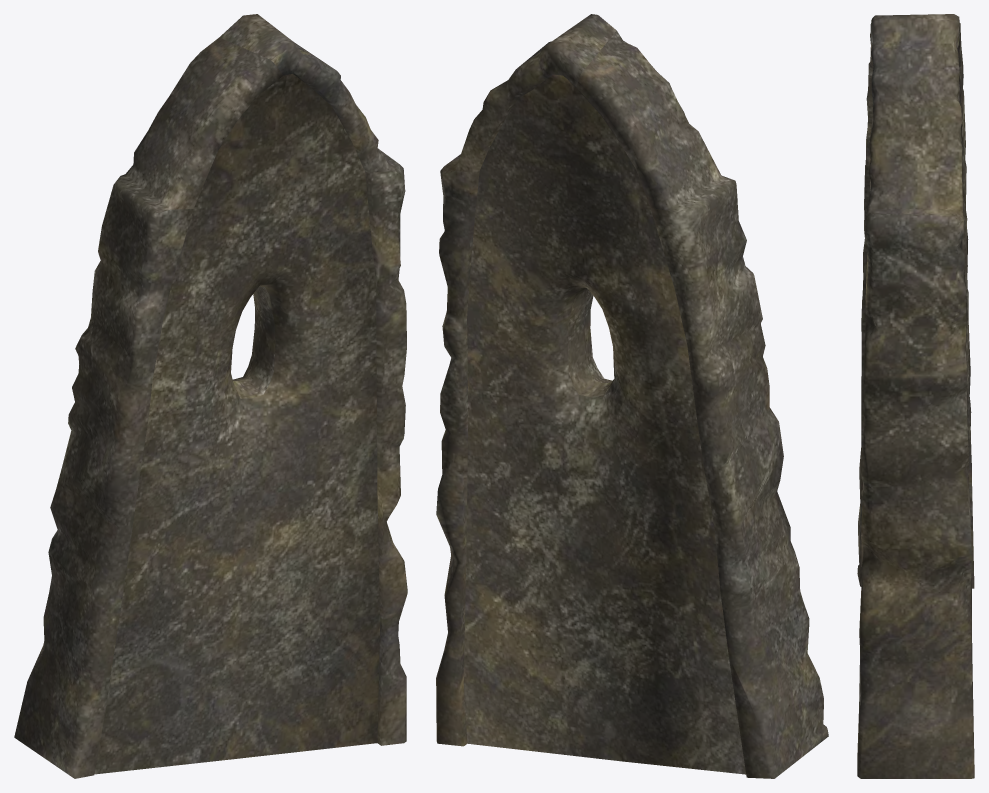
Rendered from AEG004_765-transformed.glb.
3 views of the same model, side by side, from view 1: azimuth 30°, elevation 25°; view 2: azimuth 150°, elevation 25°; view 3: azimuth 270°, elevation 25° (orthographic).
Visible parts, largest first — view 1: default; view 2: default; view 3: default.
Part boxes in pixels (x1,y1,x2,y2): default: [14, 14, 407, 778]; default: [436, 14, 828, 778]; default: [857, 14, 974, 778].
Size of the model in its own units: 9.41 by 18.88 by 2.84.
1 material, 1 textured.
